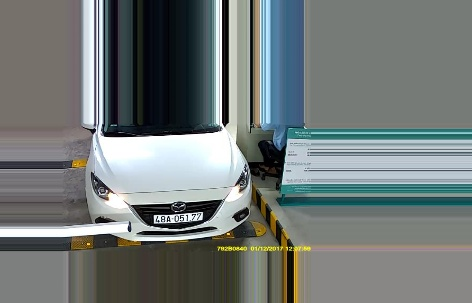plate: (152, 212, 204, 224)
